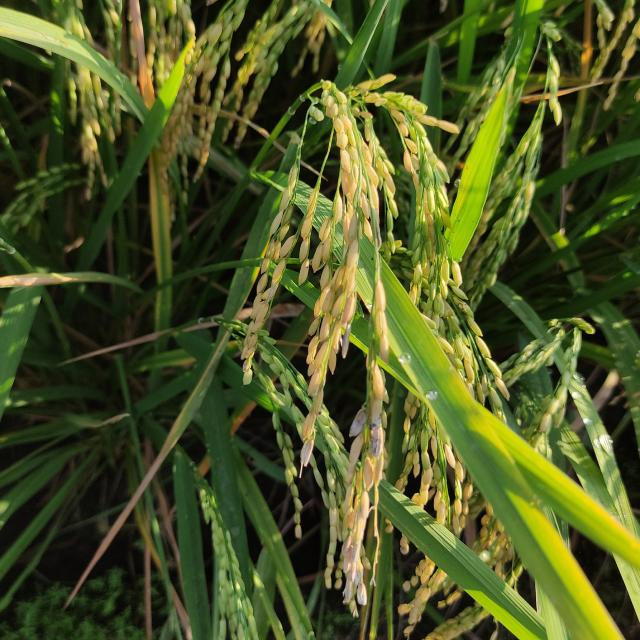Brown spot: (57, 411, 188, 617), (122, 0, 159, 90), (0, 263, 77, 296)
